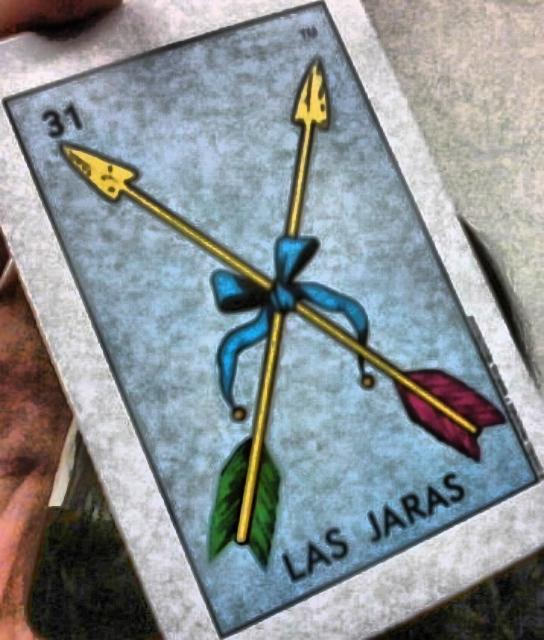Las Jaras: (9, 2, 540, 637)
